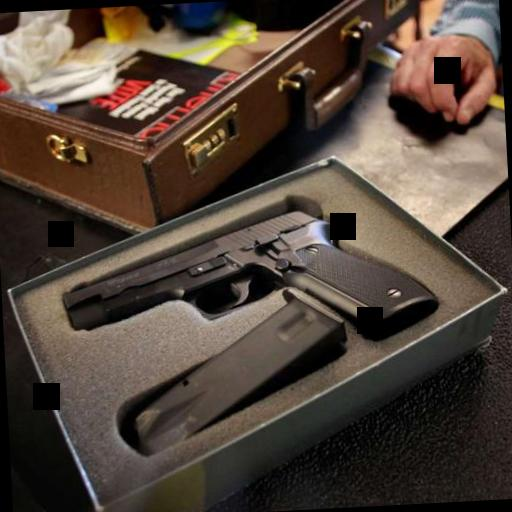Handgun: (60, 198, 436, 356)
